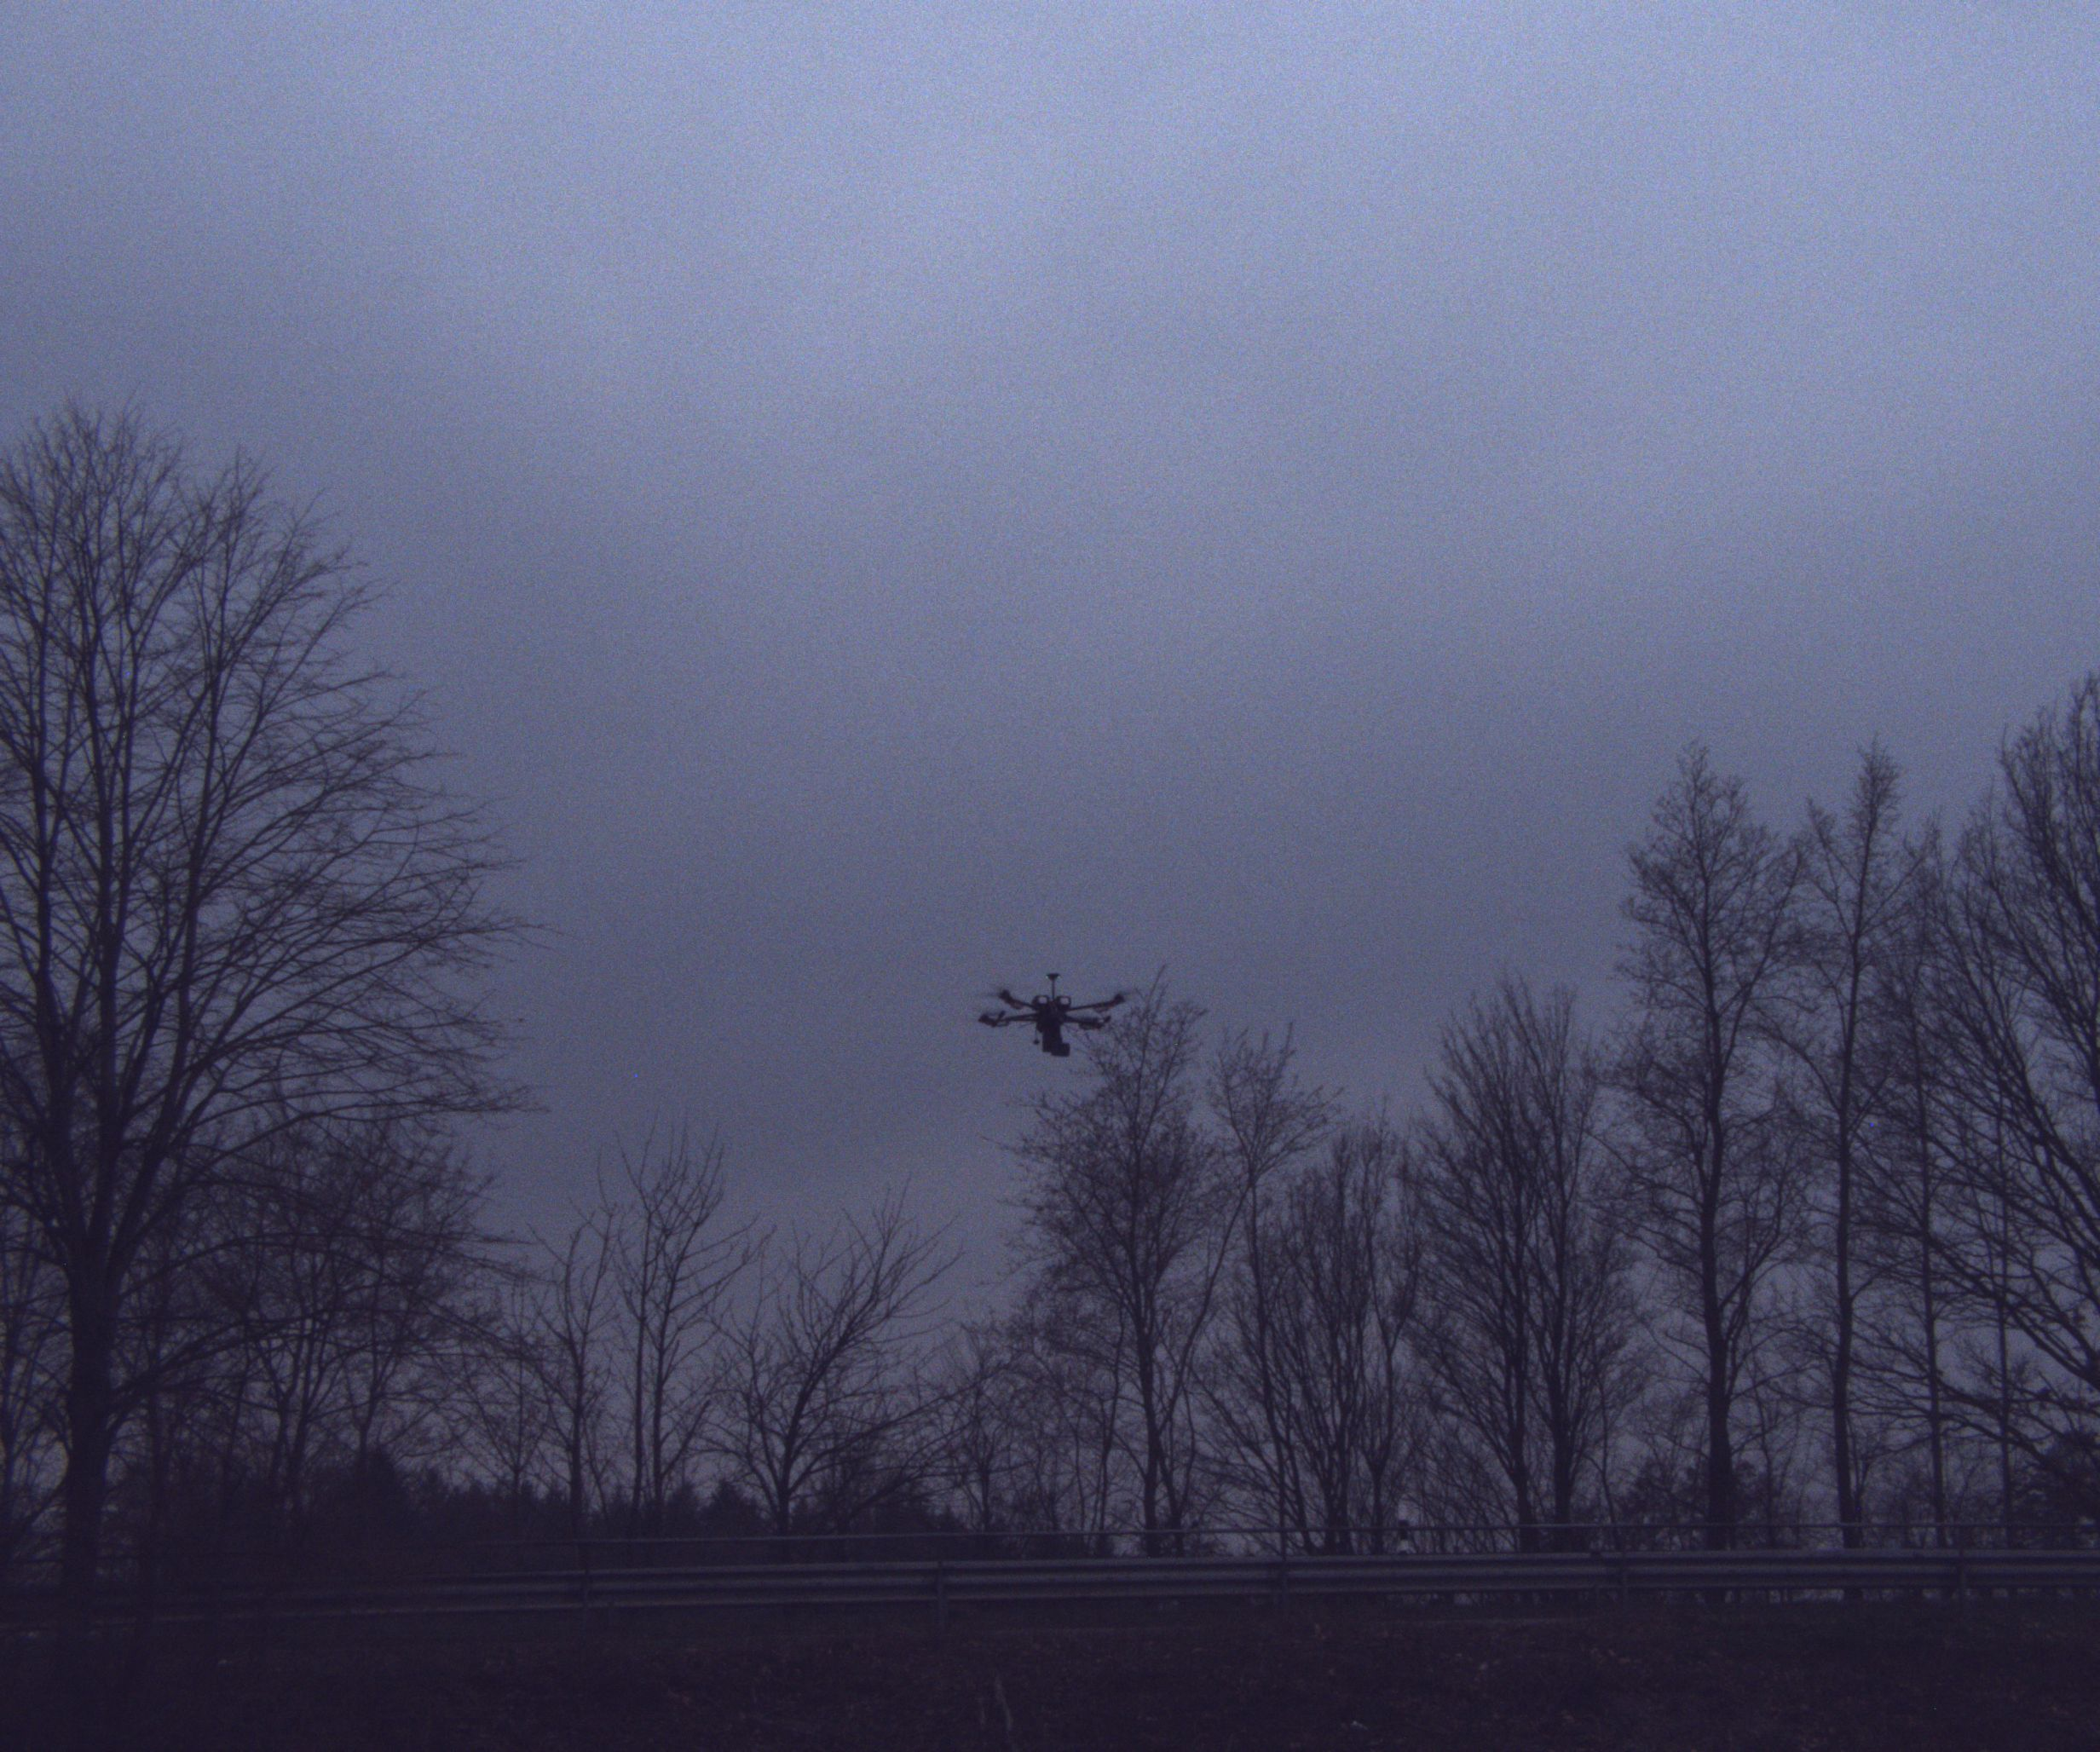Drohne: (931, 947, 1169, 1069)
